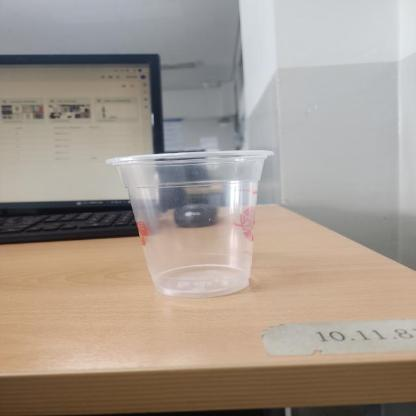Plastic Cup: (103, 150, 275, 298)
